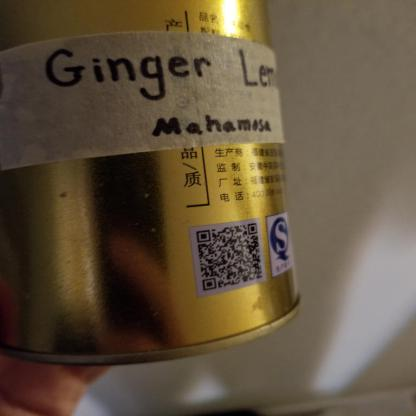qr: (192, 221, 267, 291)
